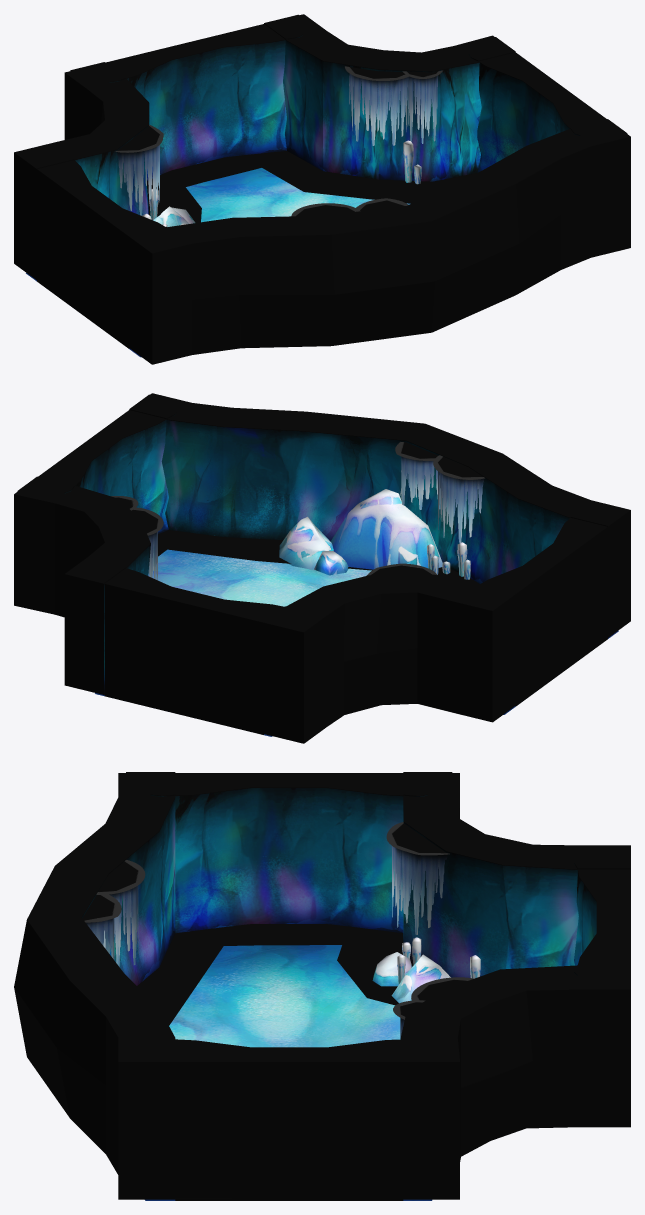
Rendered from Dungeon_072_RoadT_002.fbx.
3 views of the same model, one above another, from view 1: azimuth 30°, elevation 25°; view 2: azimuth 150°, elevation 25°; view 3: azimuth 270°, elevation 25° (orthographic). The views are drawn at different scales.
Visible parts, largest first — view 1: Dun_072_RoadT_002_wall, Dun_072_Door_002 (×3), Dun_072_OB_Icicle, Dun_072_RoadT_002_shadow, Dun_072_RoadT_002_ground, Dun_072_Door_002_shadow, Dun_072_OB_Ice_crystals01, Dun_072_OB_Stone02; view 2: Dun_072_RoadT_002_wall, Dun_072_Door_002 (×3), Dun_072_OB_Stone02, Dun_072_RoadT_002_ground, Dun_072_OB_Icicle, Dun_072_RoadT_002_shadow, Dun_072_OB_Ice_crystals01, Dun_072_OB_Stone01; view 3: Dun_072_RoadT_002_wall, Dun_072_Door_002 (×3), Dun_072_RoadT_002_ground, Dun_072_OB_Icicle, Dun_072_RoadT_002_shadow, Dun_072_Door_002_shadow, Dun_072_OB_Stone02, Dun_072_OB_Stone01, Dun_072_OB_Ice_crystals01.
Boxes of the visible parts, x1,y1,x2,y2 form: Dun_072_RoadT_002_wall: (14, 14, 630, 364); Dun_072_Door_002 (×3): (17, 14, 627, 348); Dun_072_OB_Icicle: (115, 66, 442, 216); Dun_072_RoadT_002_shadow: (147, 151, 476, 222); Dun_072_RoadT_002_ground: (26, 168, 410, 357); Dun_072_Door_002_shadow: (165, 155, 261, 186); Dun_072_OB_Ice_crystals01: (142, 140, 421, 226); Dun_072_OB_Stone02: (153, 206, 195, 226); Dun_072_RoadT_002_wall: (14, 393, 630, 743); Dun_072_Door_002 (×3): (17, 394, 627, 734); Dun_072_OB_Stone02: (279, 489, 442, 569); Dun_072_RoadT_002_ground: (95, 549, 618, 736); Dun_072_OB_Icicle: (111, 442, 484, 580); Dun_072_RoadT_002_shadow: (158, 530, 479, 584); Dun_072_OB_Ice_crystals01: (427, 542, 470, 579); Dun_072_OB_Stone01: (314, 550, 348, 575); Dun_072_RoadT_002_wall: (14, 773, 630, 1199); Dun_072_Door_002 (×3): (126, 772, 630, 1200); Dun_072_RoadT_002_ground: (145, 945, 432, 1200); Dun_072_OB_Icicle: (82, 822, 473, 1039); Dun_072_RoadT_002_shadow: (137, 926, 413, 1198); Dun_072_Door_002_shadow: (224, 924, 346, 945); Dun_072_OB_Stone02: (391, 954, 450, 1003); Dun_072_OB_Stone01: (372, 952, 412, 986); Dun_072_OB_Ice_crystals01: (397, 937, 480, 983).
Size of what is drawn, in the model's own units: 9 by 2.04 by 8.13.
